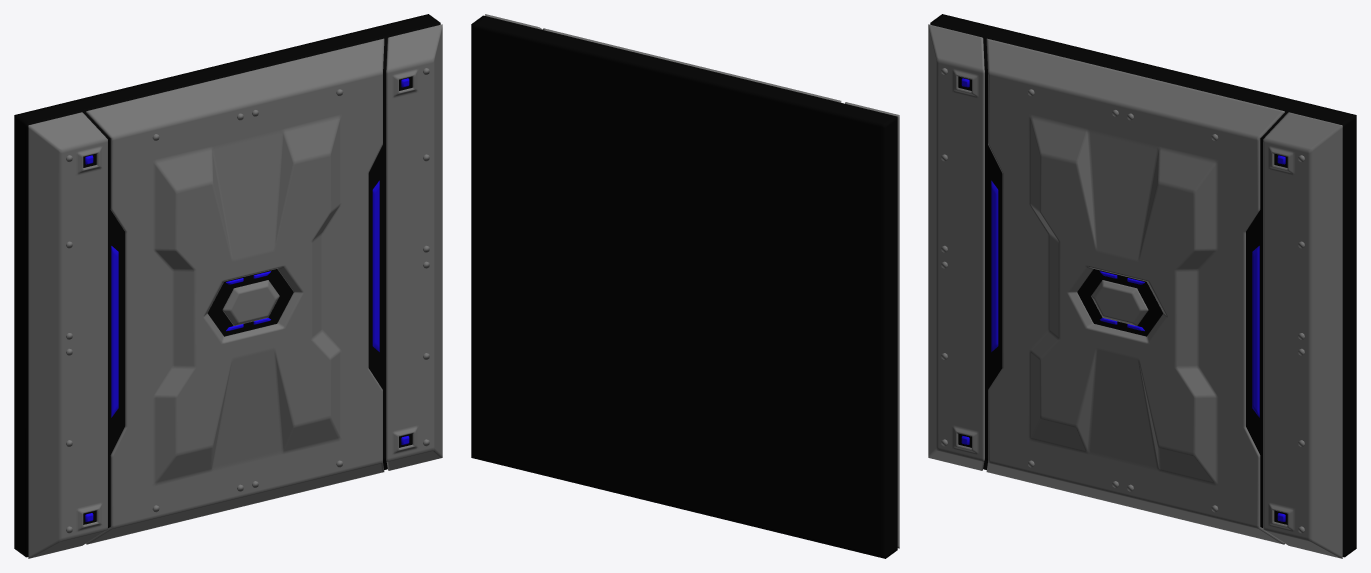
The model's file is sifi2.fbx.
3 views of the same model, side by side, from view 1: azimuth 30°, elevation 25°; view 2: azimuth 150°, elevation 25°; view 3: azimuth 330°, elevation 25° (orthographic).
Visible parts, largest first — view 1: SciFi_Panel_001; view 2: SciFi_Panel_001; view 3: SciFi_Panel_001.
Part boxes in pixels (box(x1,y1,x2,y2)): SciFi_Panel_001: box(14, 14, 442, 558); SciFi_Panel_001: box(471, 14, 899, 558); SciFi_Panel_001: box(928, 14, 1356, 558).
Bounding box in the file's own units: 200 × 200 × 26.73.
